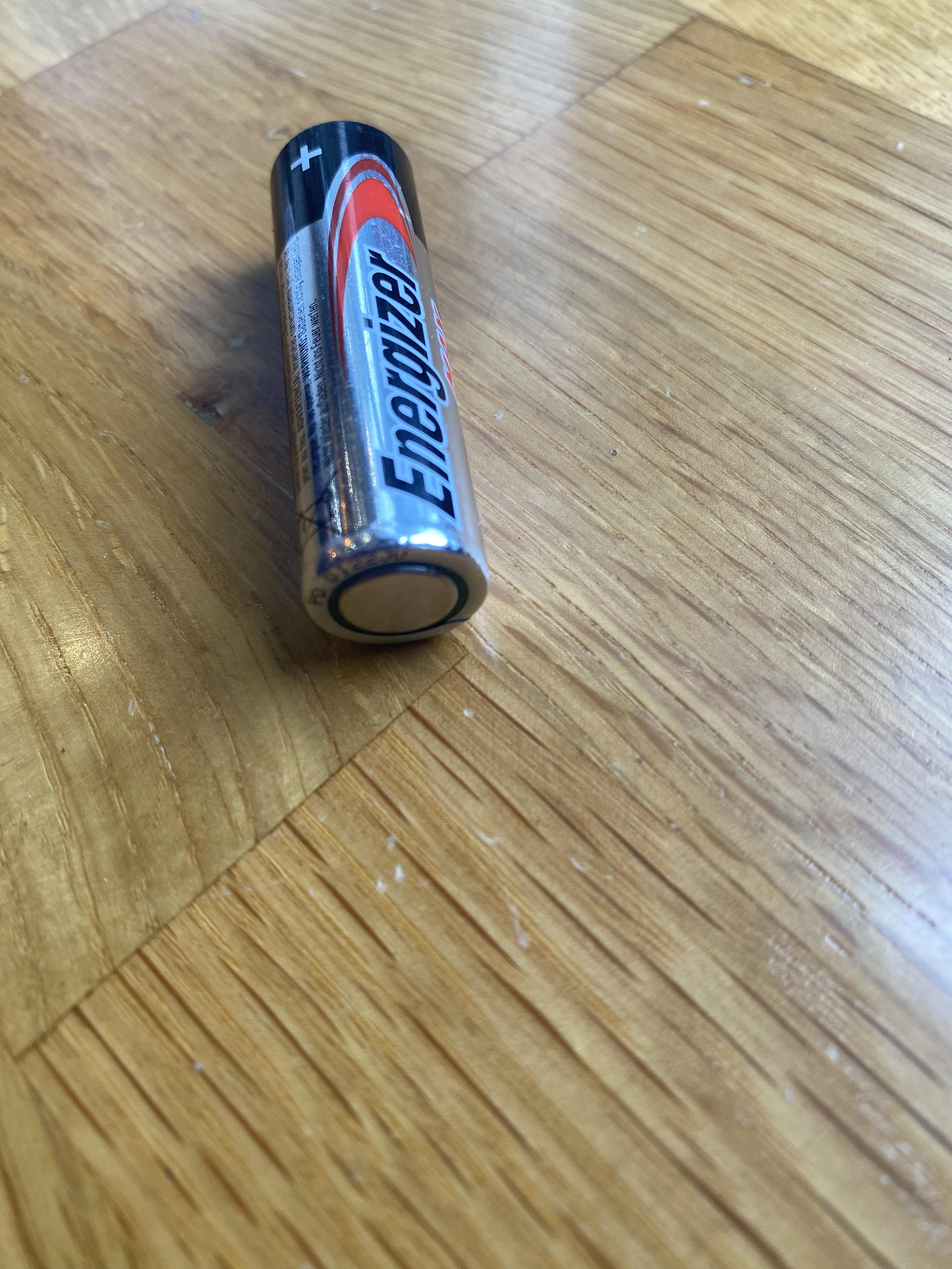AA: (268, 118, 490, 645)
